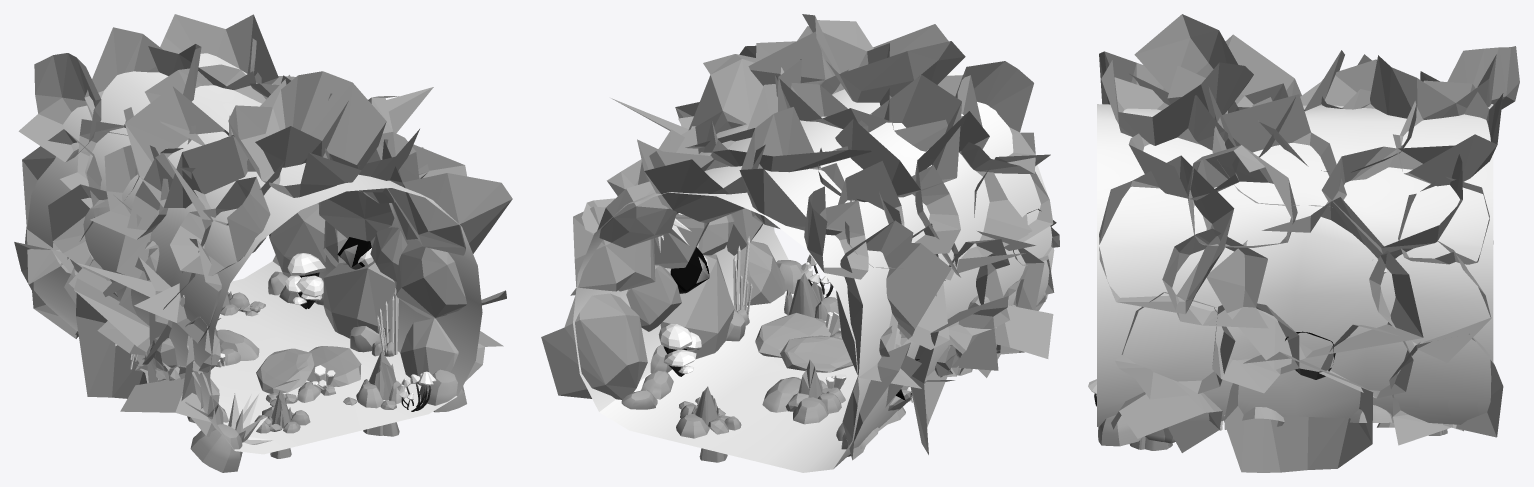
File: Cave2.fbx
3 views of the same model, side by side, from view 1: azimuth 30°, elevation 25°; view 2: azimuth 150°, elevation 25°; view 3: azimuth 270°, elevation 25° (orthographic). The views are drawn at different scales.
Parts seen in each view (by area): view 1: caverna3, polySurface160, polySurface227, polySurface189, polySurface213; view 2: caverna3, polySurface160, polySurface213; view 3: caverna3.
Part boxes in pixels (box(x1,y1,x2,y2)): caverna3: box(14, 14, 512, 472); polySurface160: box(284, 253, 325, 309); polySurface227: box(228, 393, 272, 444); polySurface189: box(397, 371, 436, 411); polySurface213: box(377, 288, 398, 356); caverna3: box(541, 14, 1059, 472); polySurface160: box(658, 324, 701, 376); polySurface213: box(733, 236, 752, 316); caverna3: box(1097, 14, 1519, 472).
Size of the model in its own units: 16.71 by 14.92 by 15.42.
